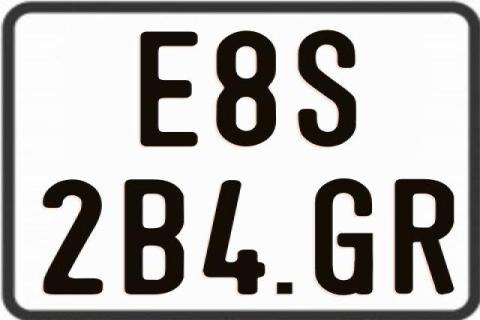0: (42, 180, 104, 298), (202, 178, 264, 296), (215, 29, 275, 149)
B: (123, 177, 182, 295)
E: (140, 31, 202, 147)
G: (313, 177, 372, 297)
R: (392, 179, 451, 297)
S: (298, 28, 356, 149)
